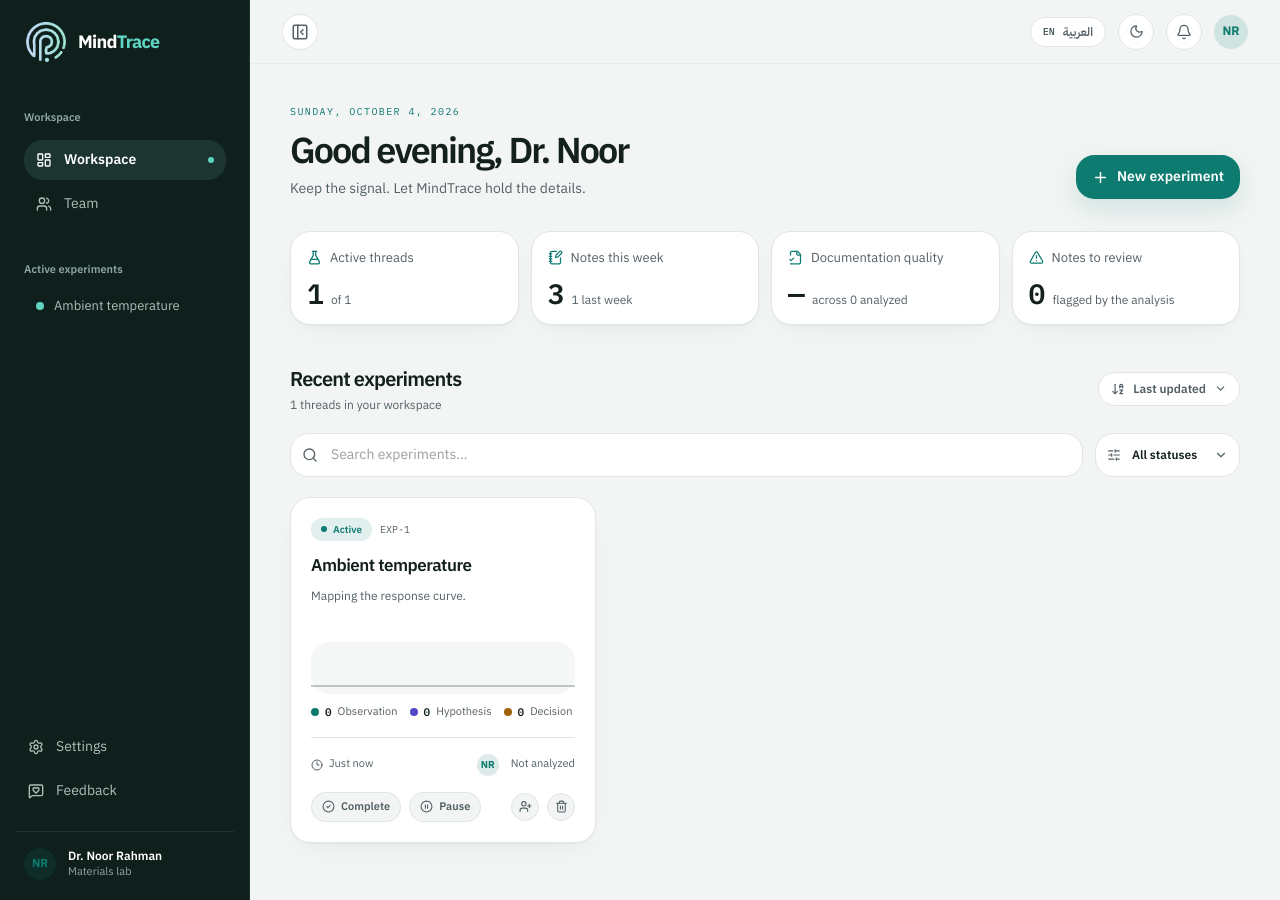
Scenario: add people › finds a person by email or ID and adds them
Click the button with test id "button-add-people-1".
click(525, 807)  # box [511,793,539,821]
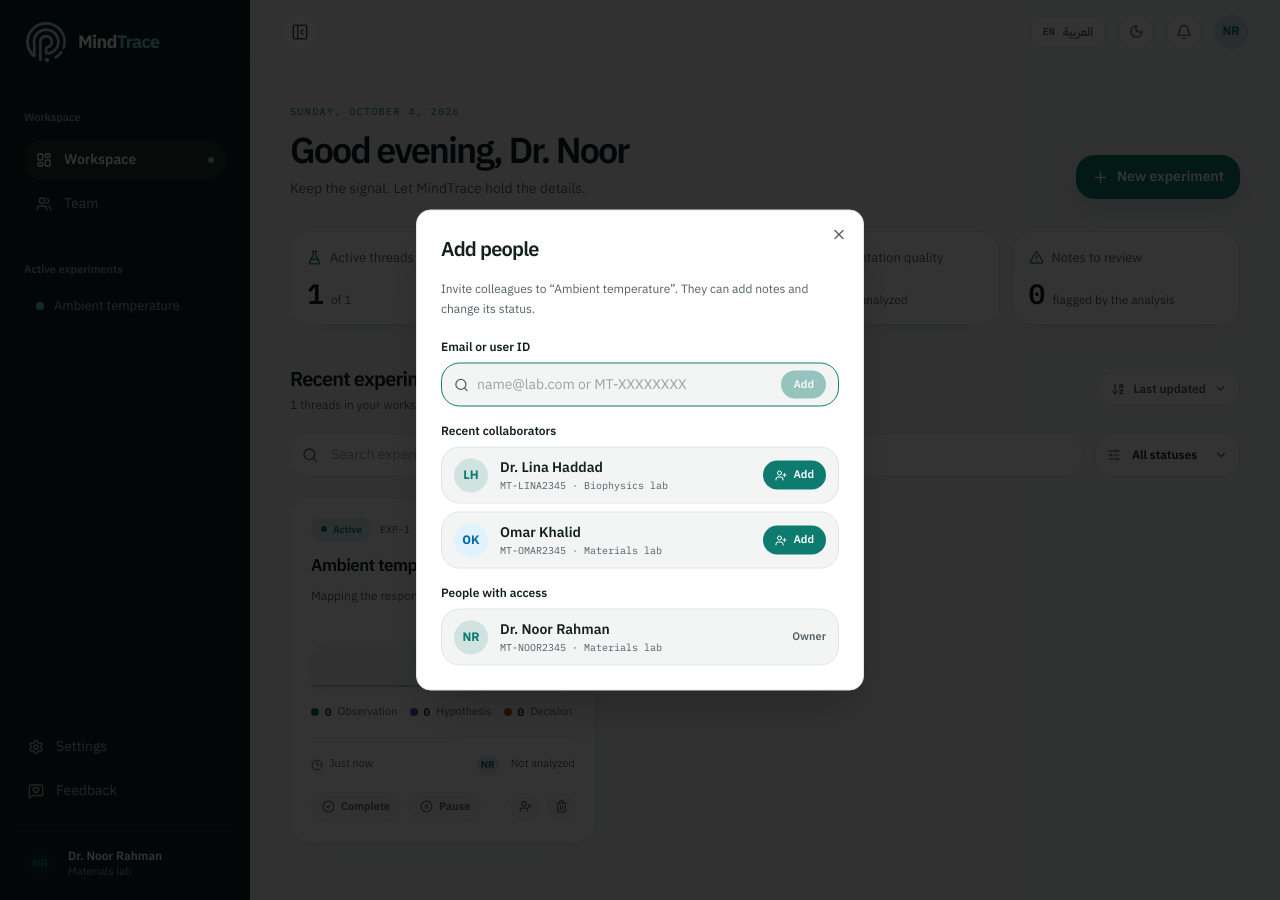
Type "lina@lab.com" into the field with test id "input-people-search".
click(625, 384); type("lina@lab.com")  # box [477,374,773,394]
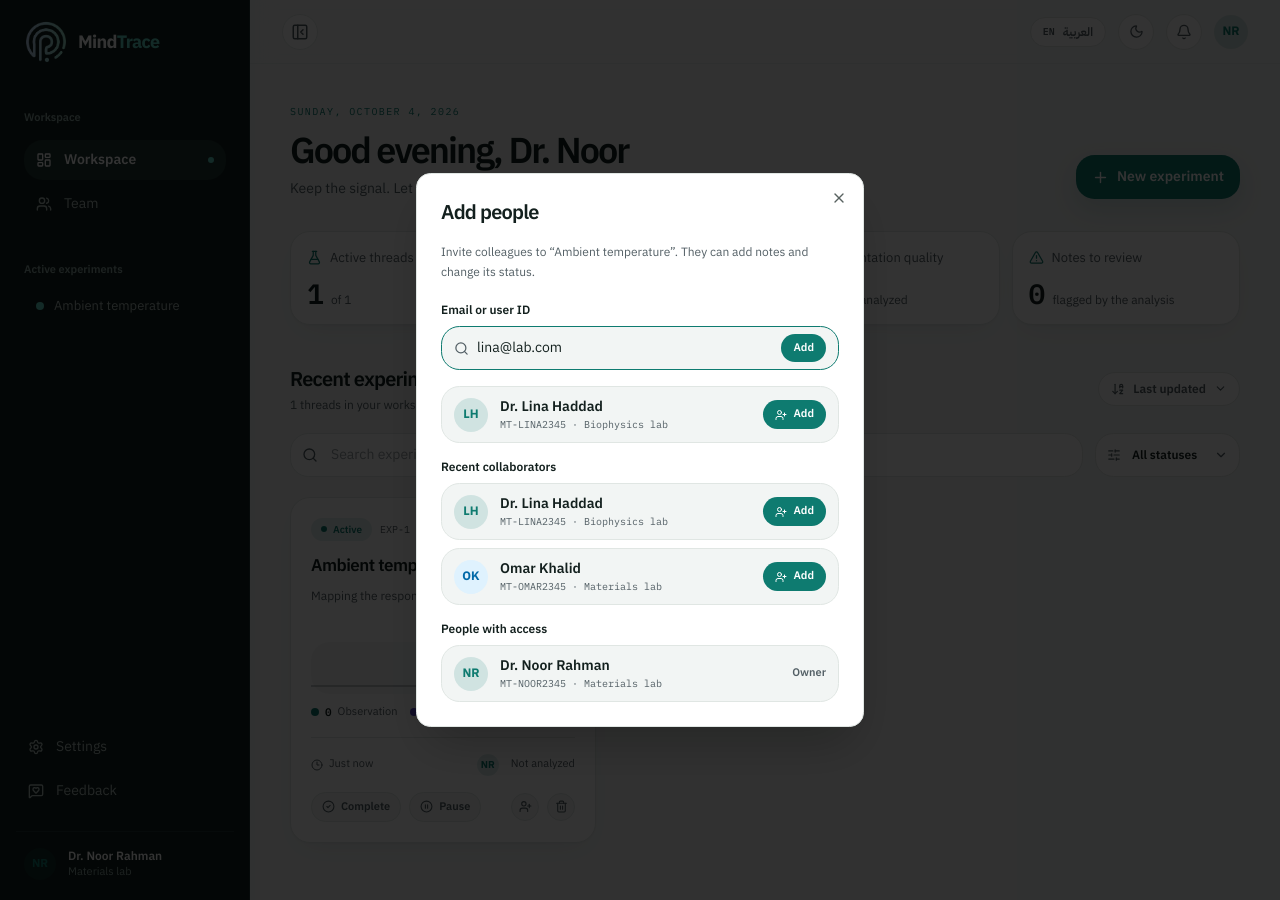
Click the 2nd button "Add".
click(795, 415)  # box [763,400,826,429]
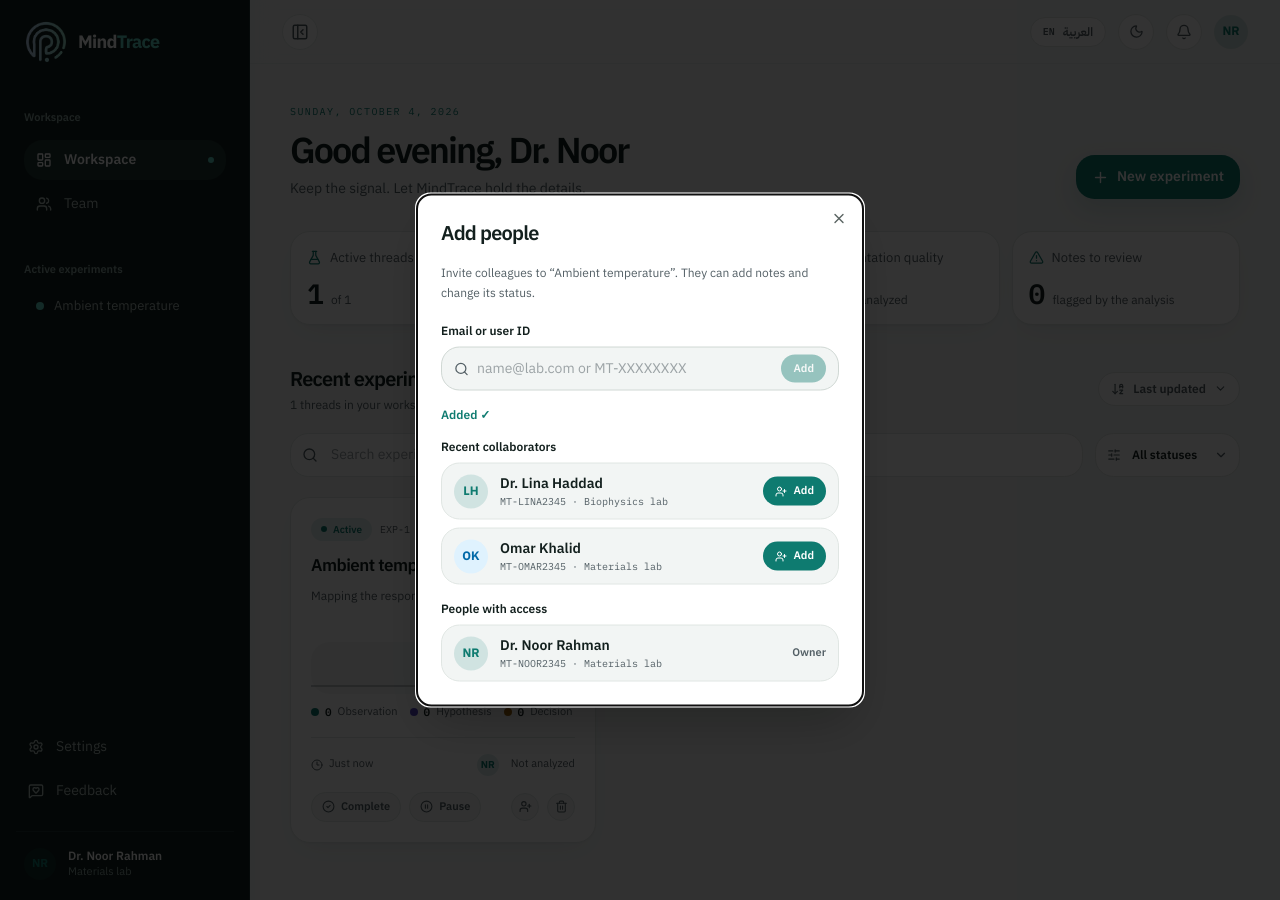
Expected: the message "Added ✓" is shown, [441,406,490,424]
